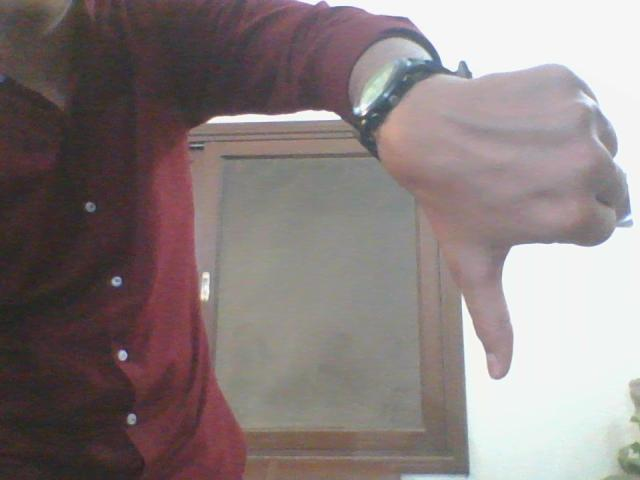thumbs-down: (446, 53, 633, 371)
